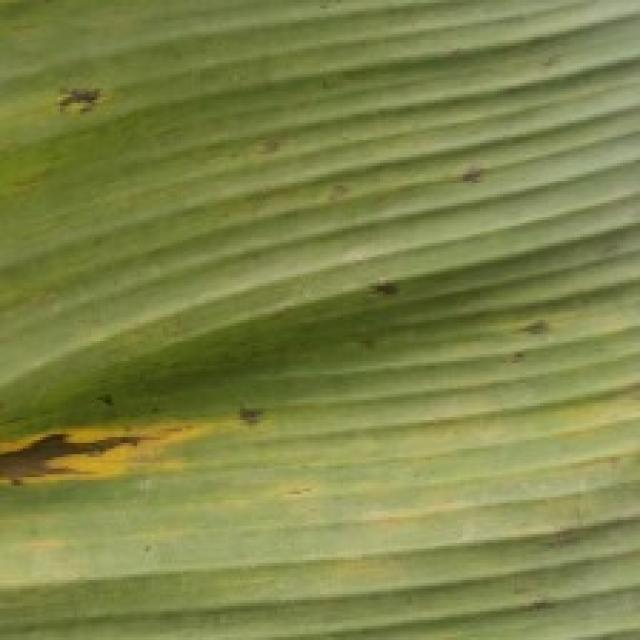Downey_mildrew: (0, 397, 308, 497), (48, 77, 170, 153), (505, 305, 570, 361), (457, 156, 499, 212), (372, 275, 411, 320)
